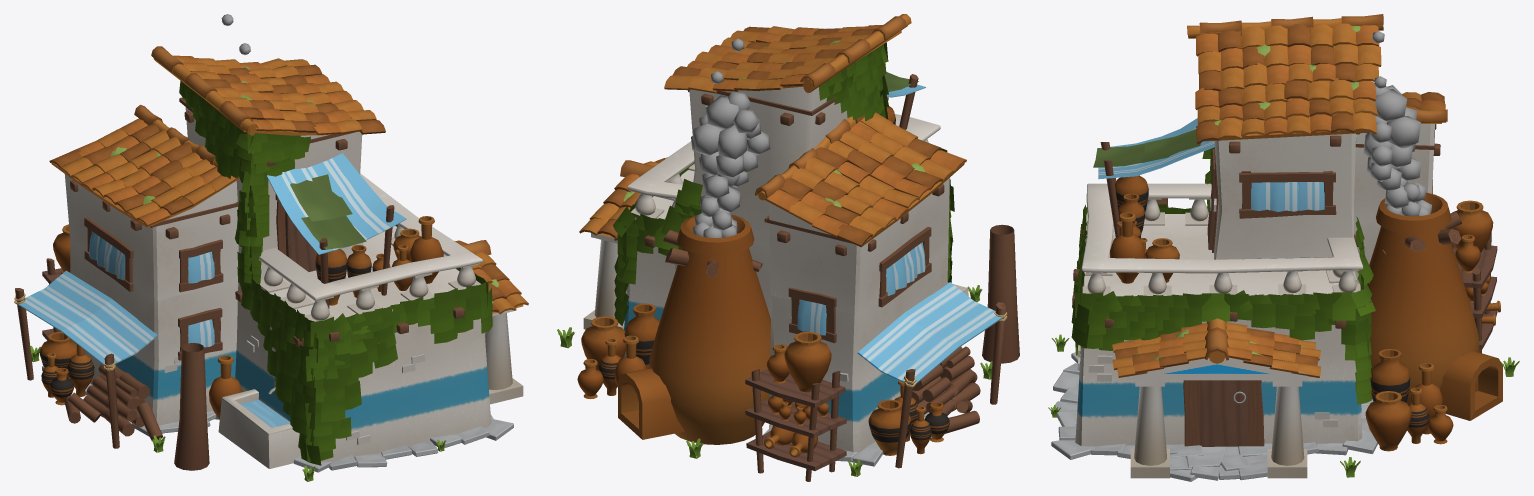
File: NHA 2.fbx
3 views of the same model, side by side, from view 1: azimuth 30°, elevation 25°; view 2: azimuth 150°, elevation 25°; view 3: azimuth 270°, elevation 25° (orthographic). The views are drawn at different scales.
Visible parts, largest first — view 1: Greek_Potter_House and_Props_House_0, Greek_Potter_Vegetation; view 2: Greek_Potter_House and_Props_House_0, Greek_Potter_Vegetation; view 3: Greek_Potter_House and_Props_House_0, Greek_Potter_Vegetation.
Boxes of the visible parts, box(x1,y1,x2,y2) form: Greek_Potter_House and_Props_House_0: box(14, 46, 528, 472); Greek_Potter_Vegetation: box(30, 14, 498, 481); Greek_Potter_House and_Props_House_0: box(577, 14, 1007, 481); Greek_Potter_Vegetation: box(557, 32, 1019, 476); Greek_Potter_House and_Props_House_0: box(1051, 14, 1502, 481); Greek_Potter_Vegetation: box(1048, 26, 1519, 477).
Bounding box in the file's own units: 5681 × 5119 × 5902.
